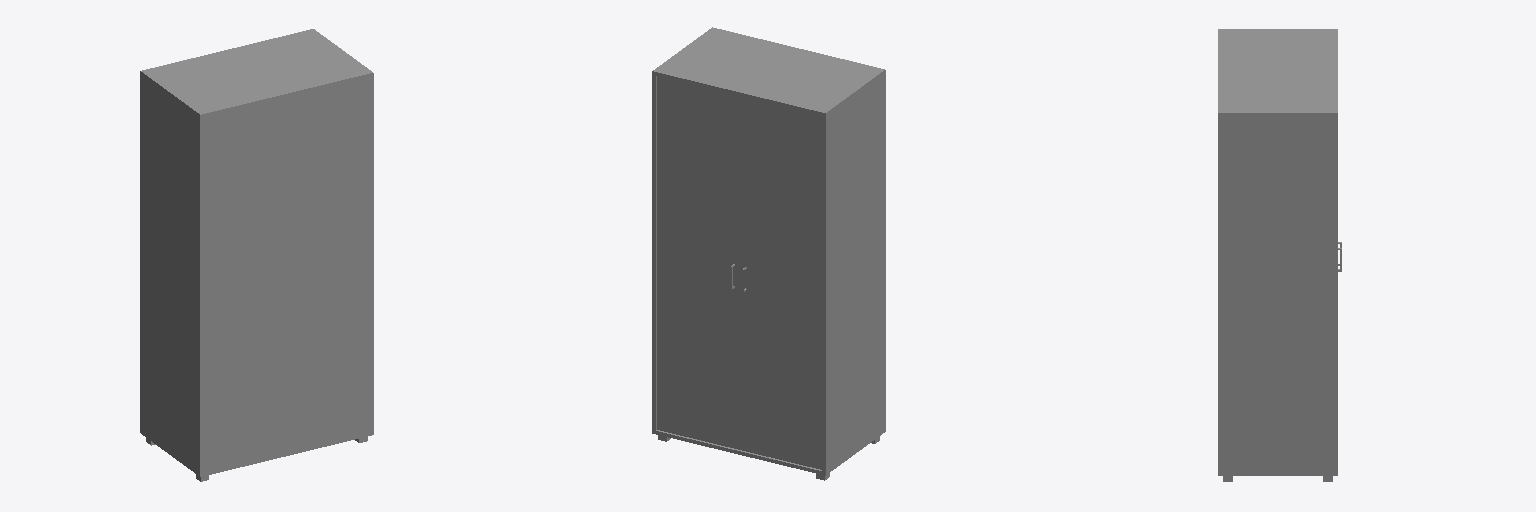
Rendered from cabinet3.obj.
3 views of the same model, side by side, from view 1: azimuth 30°, elevation 25°; view 2: azimuth 150°, elevation 25°; view 3: azimuth 270°, elevation 25° (orthographic).
Visible parts, largest first — view 1: base_Untitled; view 2: doors_Untitled.003, base_Untitled; view 3: base_Untitled.
Part boxes in pixels (left/top/right/bottom): base_Untitled: left=140, top=29, right=373, bottom=476; doors_Untitled.003: left=657, top=76, right=821, bottom=469; base_Untitled: left=652, top=27, right=885, bottom=475; base_Untitled: left=1218, top=29, right=1337, bottom=475.
Bounding box in the file's own units: 1 × 2.04 × 0.6198.